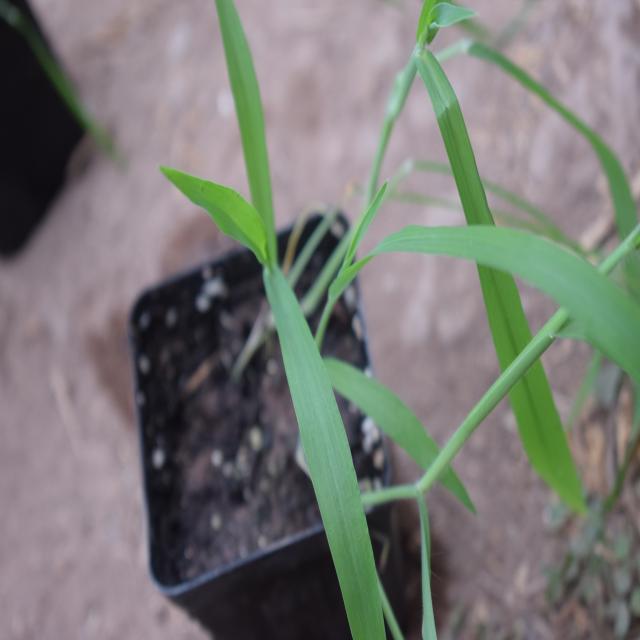crabgrass: (154, 50, 414, 616), (375, 61, 640, 372)
